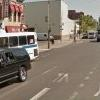Bus: (3, 26, 40, 60)
